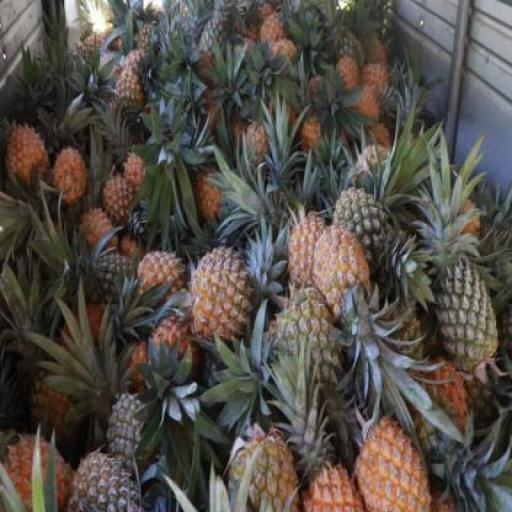------------------------------: (270, 293, 338, 393), (329, 191, 393, 290), (22, 364, 72, 440), (110, 67, 144, 126)
Pineapple - v8 v1: (354, 423, 432, 511), (312, 234, 376, 336), (190, 248, 252, 343), (0, 426, 68, 512), (287, 218, 336, 306), (149, 318, 194, 398), (6, 122, 46, 183), (131, 251, 174, 307), (99, 174, 137, 228), (53, 148, 84, 206)
